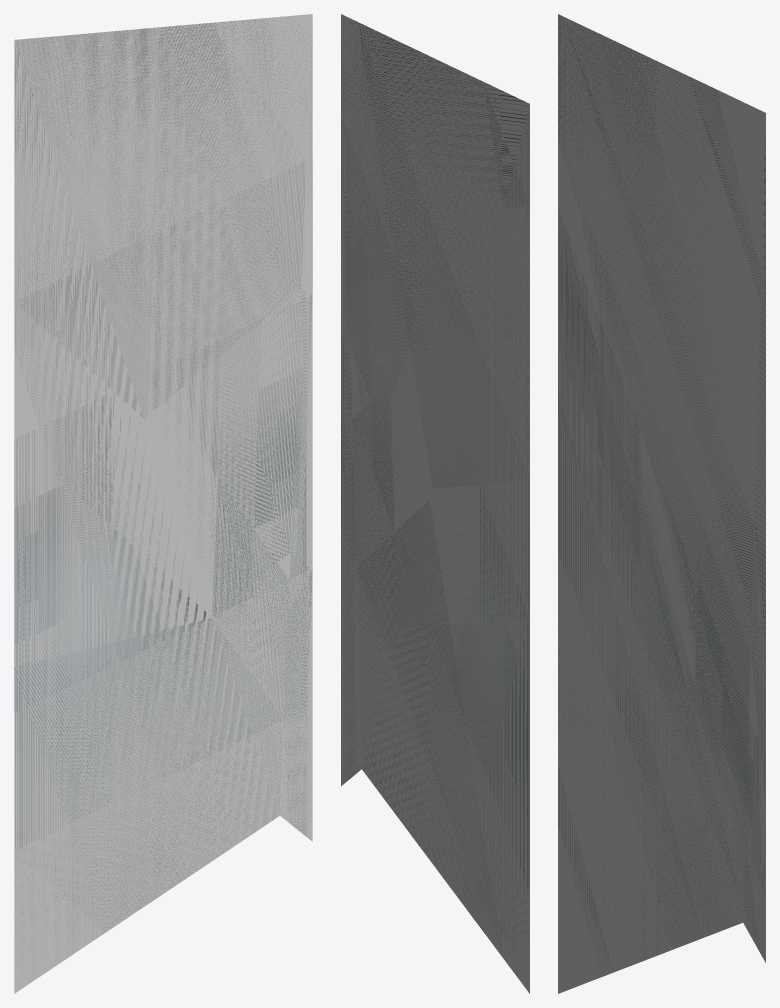
Rendered from 西庸城堡585.dae.
3 renders of one model, left to right at view 1: azimuth 30°, elevation 25°; view 2: azimuth 150°, elevation 25°; view 3: azimuth 330°, elevation 25°, orthographic. The views are drawn at different scales.
Visible parts, largest first — view 1: SketchUp; view 2: SketchUp; view 3: SketchUp.
Part boxes in pixels (x1,y1,x2,y2): SketchUp: (14, 14, 312, 993); SketchUp: (341, 14, 529, 993); SketchUp: (558, 14, 765, 993).
Bounding box in the file's own units: 16.06 × 5.34 × 58.5.
